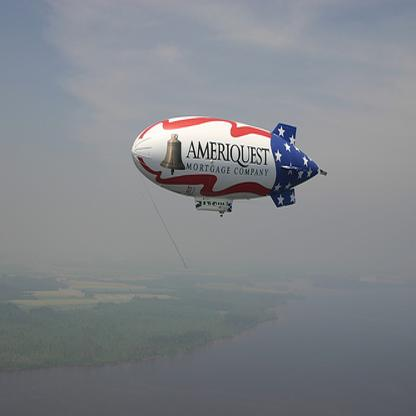Airship: (129, 113, 331, 222)
